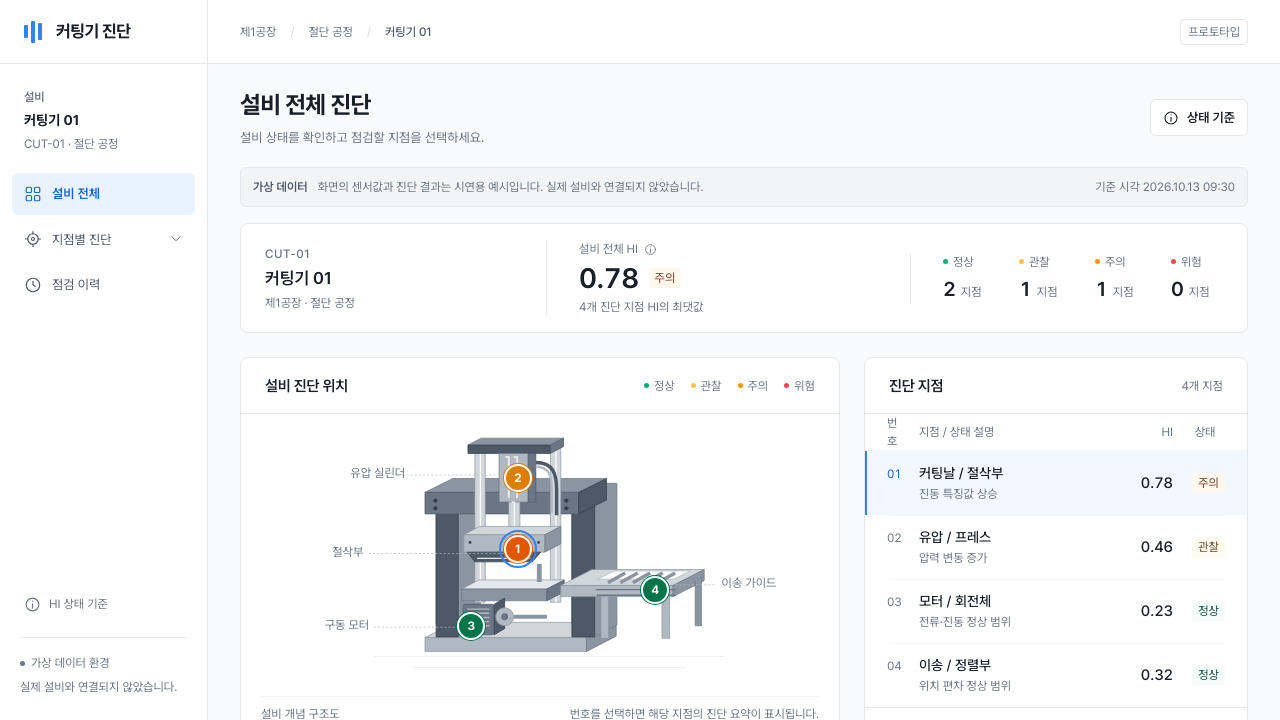
it: 설비 전체 진단 화면의 사용자 흐름 › 마우스 오버 시 해당 지점 HI와 상태 툴팁을 표시한다
Hover over the button "1": (518, 549) x1=504 y1=535 x2=532 y2=563
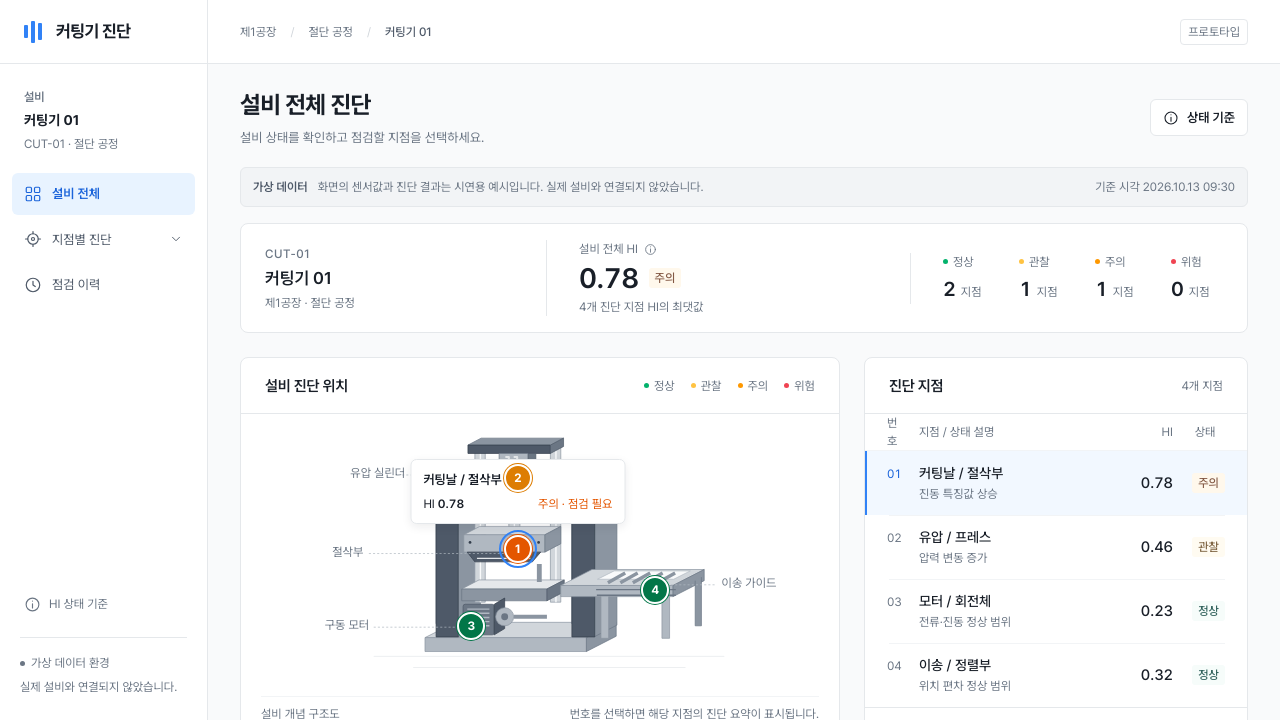
Expected: the tooltip "커팅날 / 절삭부 HI 0.78 주의 · 점검 필요" is shown, x1=410 y1=459 x2=625 y2=524
Move the pointer off the button "1", box x1=504 y1=535 x2=532 y2=563
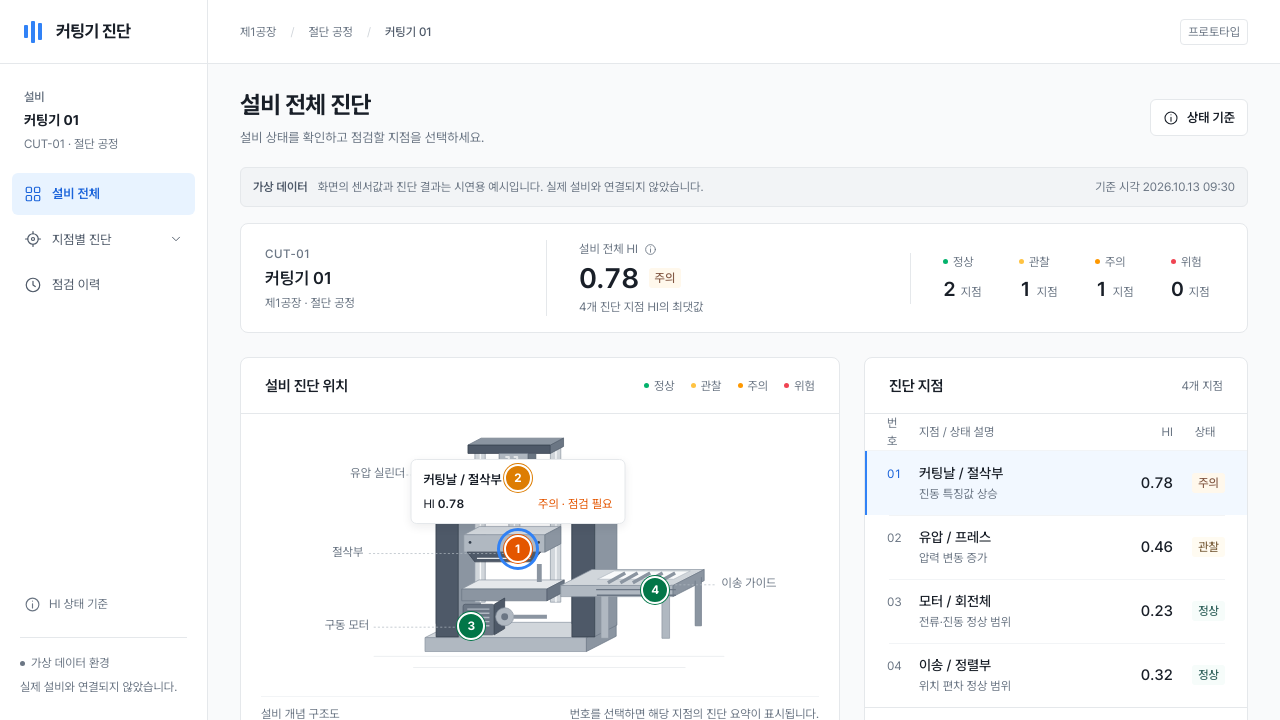
Expected: the tooltip "커팅날 / 절삭부 HI 0.78 주의 · 점검 필요" is shown, x1=410 y1=459 x2=625 y2=524
Press Escape in the button "1", box x1=504 y1=535 x2=532 y2=563
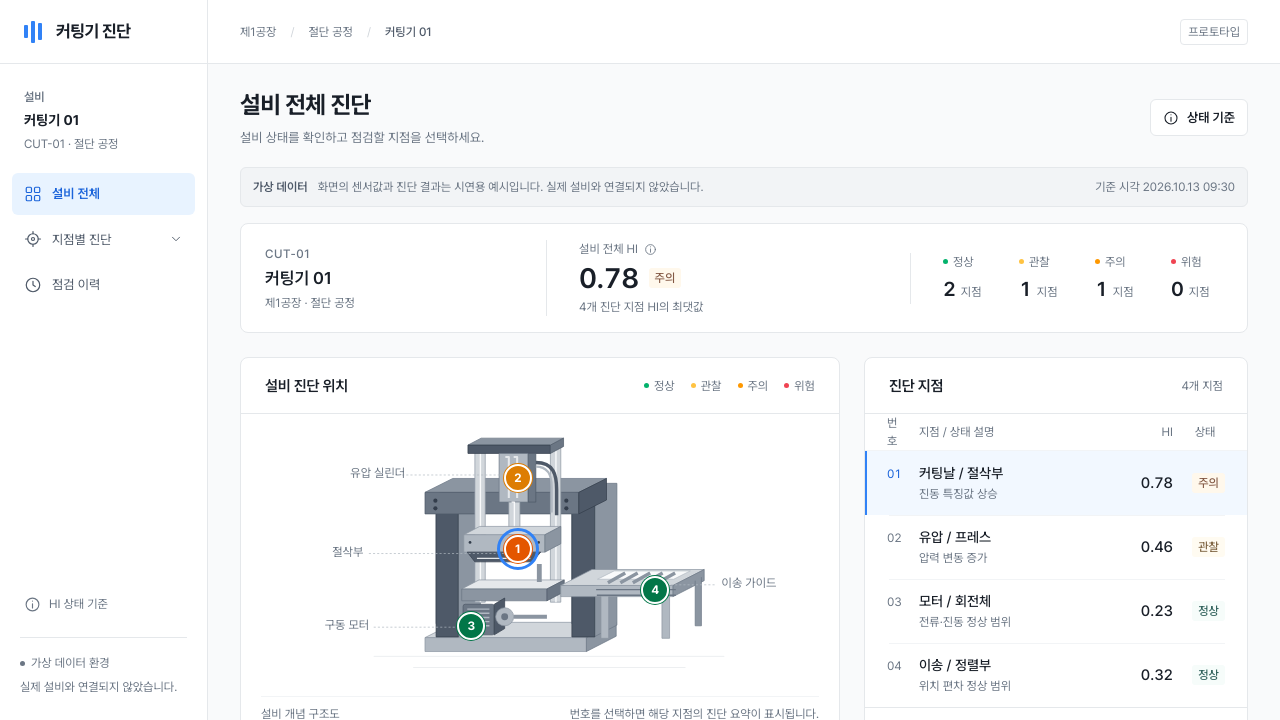
Expected: the tooltip "커팅날 / 절삭부 HI 0.78 주의 · 점검 필요" is gone
